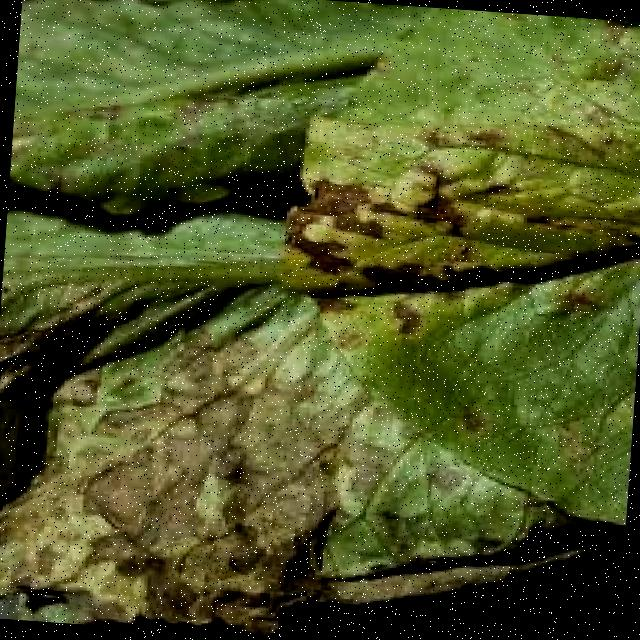Septoria_Blight_on_lettuce: (273, 37, 640, 464), (44, 338, 271, 627)
